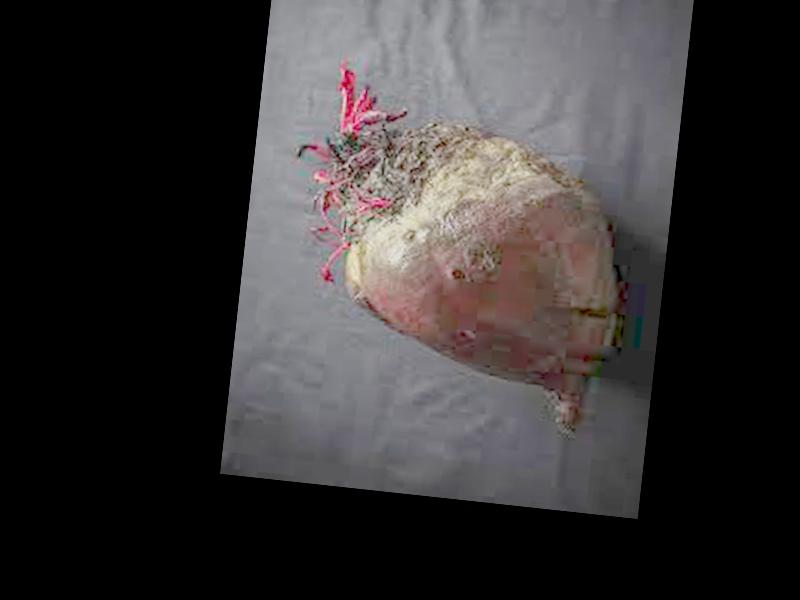Beet: (269, 57, 637, 439)
